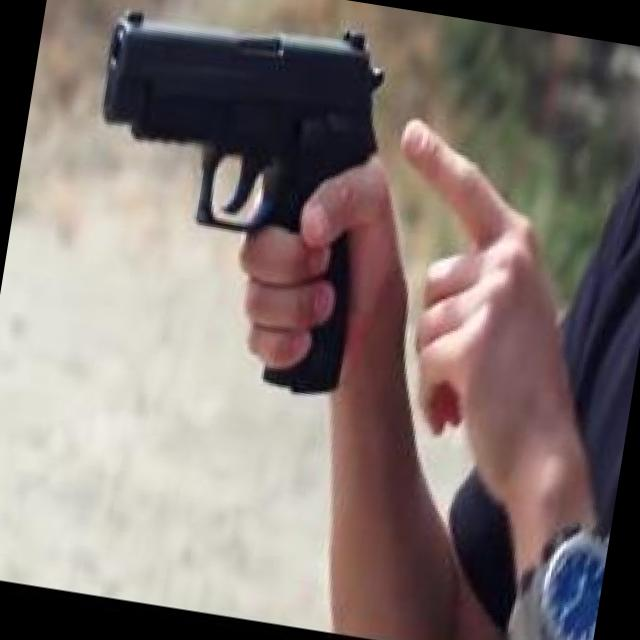Guns: (30, 0, 449, 423)
